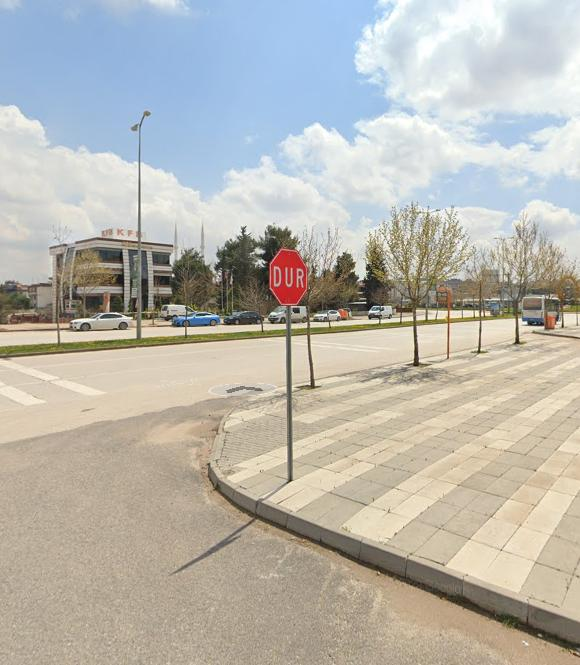stop: (269, 246, 310, 305)
